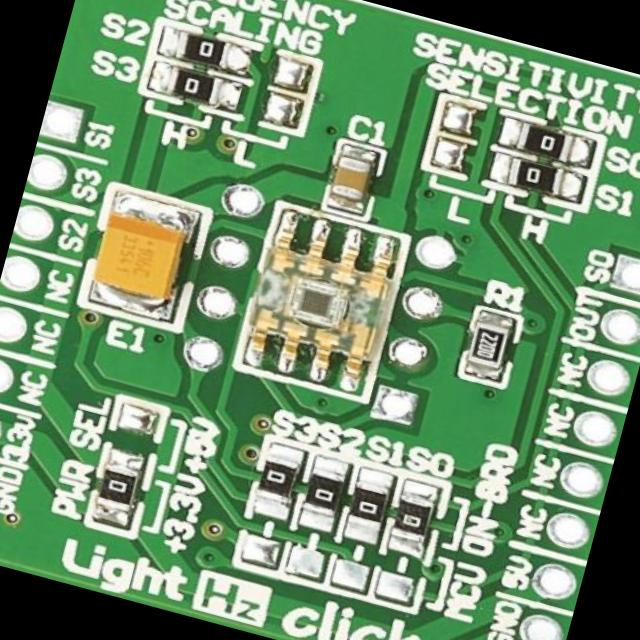IC: (244, 232, 399, 378)
capacitor: (84, 196, 204, 321), (326, 146, 378, 210)
resistor: (248, 451, 302, 514), (386, 488, 438, 546), (464, 312, 514, 370), (517, 120, 578, 164), (170, 33, 242, 70), (158, 65, 224, 104), (341, 476, 386, 530), (509, 156, 564, 198), (298, 466, 342, 518), (94, 460, 136, 508)
